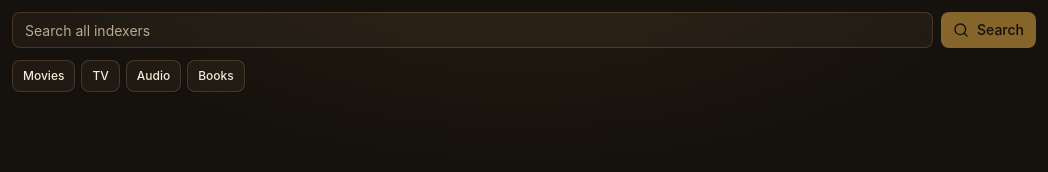
Test: SearchTab › does not claim nothing exists when nothing came back
Type "bunny" into the field at (472, 30), box [12,12,933,48]
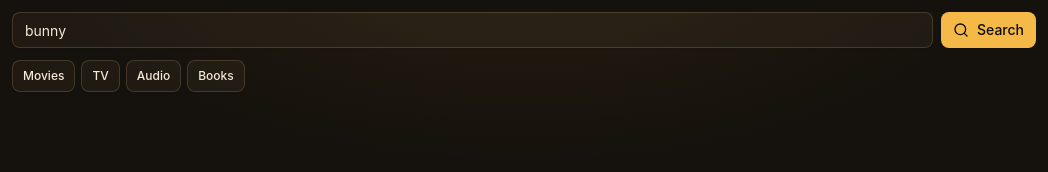
Click the button "Search" at (988, 30), box [941,12,1036,48]
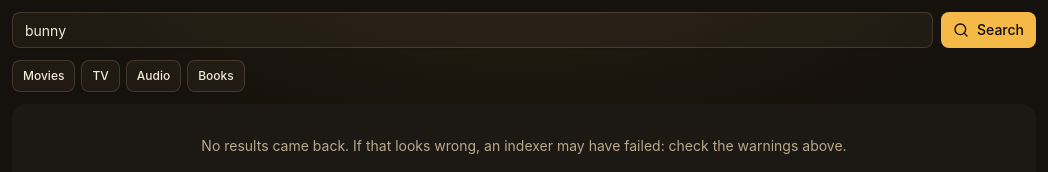
expect the text "an indexer may have failed" is shown: met, box [201,137,847,154]
